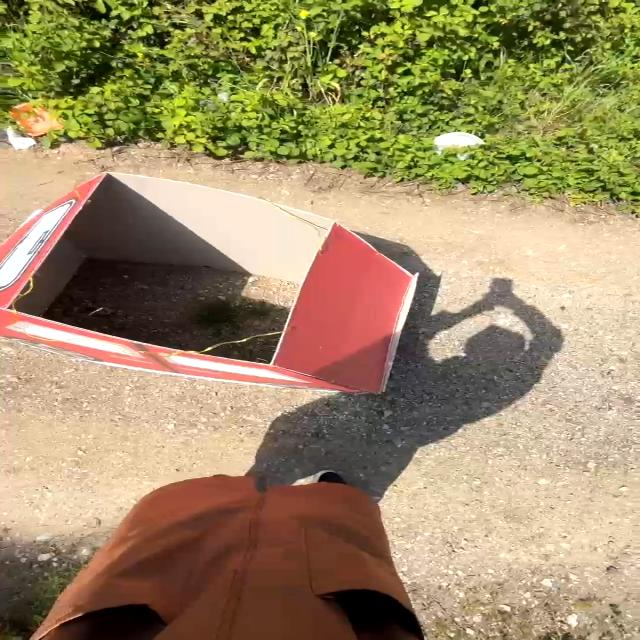red_car: (0, 130, 459, 419)
